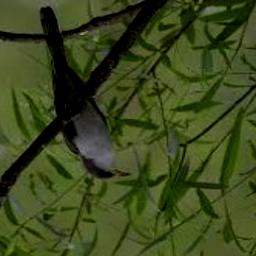Cuckoo: (39, 8, 130, 180)
